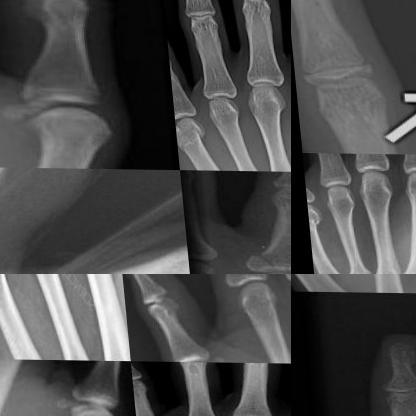fracture: (226, 247, 287, 273), (172, 120, 201, 158), (303, 204, 319, 236)
